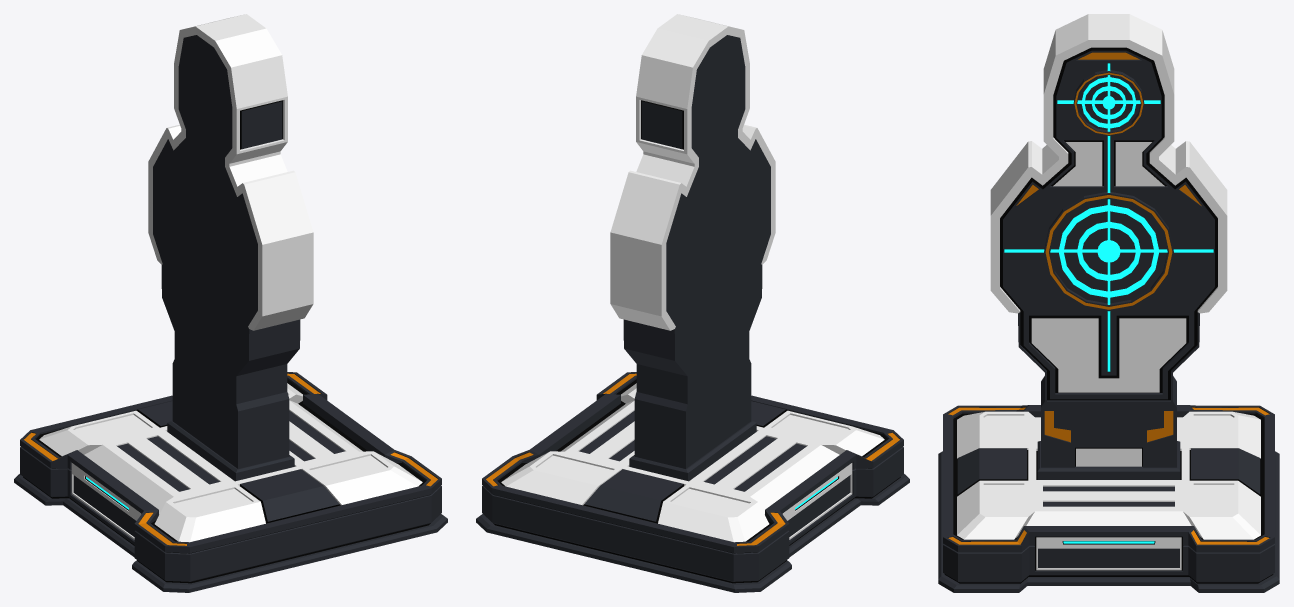
The model's file is SM_TargetDummy.fbx.
3 views of the same model, side by side, from view 1: azimuth 30°, elevation 25°; view 2: azimuth 150°, elevation 25°; view 3: azimuth 270°, elevation 25° (orthographic). The views are drawn at different scales.
Visible parts, largest first — view 1: SM_TargetDummy; view 2: SM_TargetDummy; view 3: SM_TargetDummy.
Boxes of the visible parts, bbox=[...] form: SM_TargetDummy: bbox=[14, 14, 447, 592]; SM_TargetDummy: bbox=[476, 14, 909, 592]; SM_TargetDummy: bbox=[938, 14, 1279, 592].
Bounding box in the file's own units: 103 × 164 × 103.
